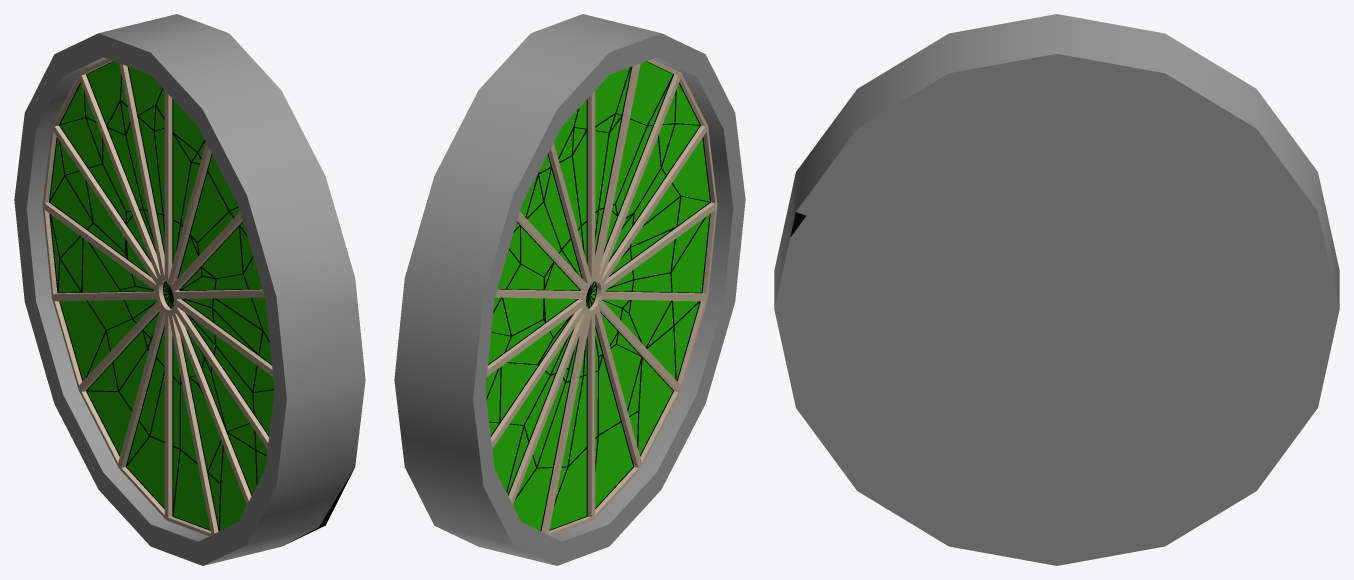
Rendered from Okno z witrażem.fbx.
3 views of the same model, side by side, from view 1: azimuth 30°, elevation 25°; view 2: azimuth 150°, elevation 25°; view 3: azimuth 270°, elevation 25° (orthographic). The views are drawn at different scales.
Parts seen in each view (by area): view 1: Rozeta; view 2: Rozeta; view 3: Rozeta.
Part boxes in pixels (bbox=[...]): Rozeta: bbox=[14, 14, 365, 565]; Rozeta: bbox=[394, 14, 745, 565]; Rozeta: bbox=[774, 14, 1339, 565].
Bounding box in the file's own units: 50 × 300 × 300.
